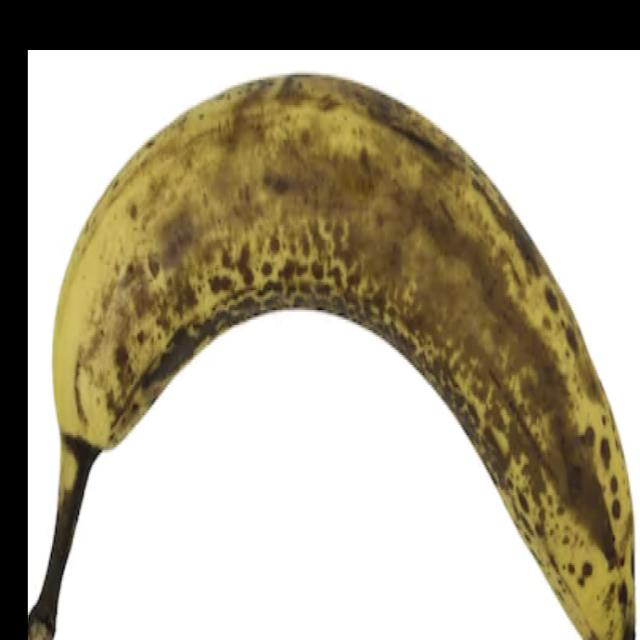banana: (146, 75, 556, 532)
